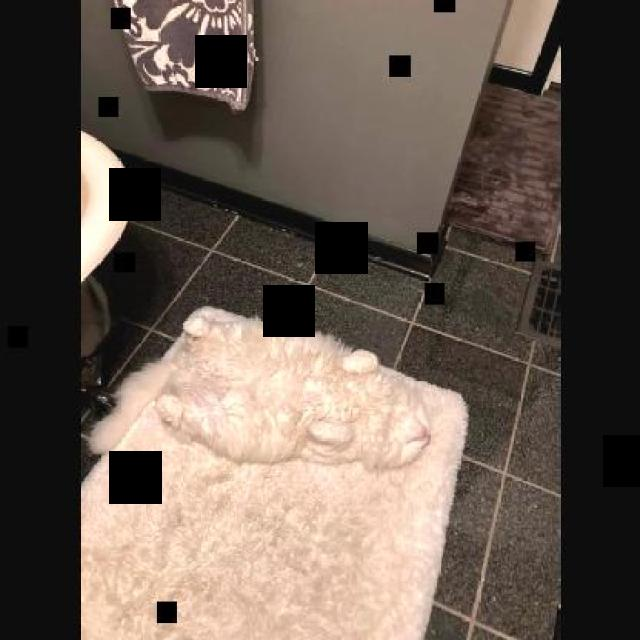unauthorized: (78, 304, 470, 638), (83, 303, 431, 471)
